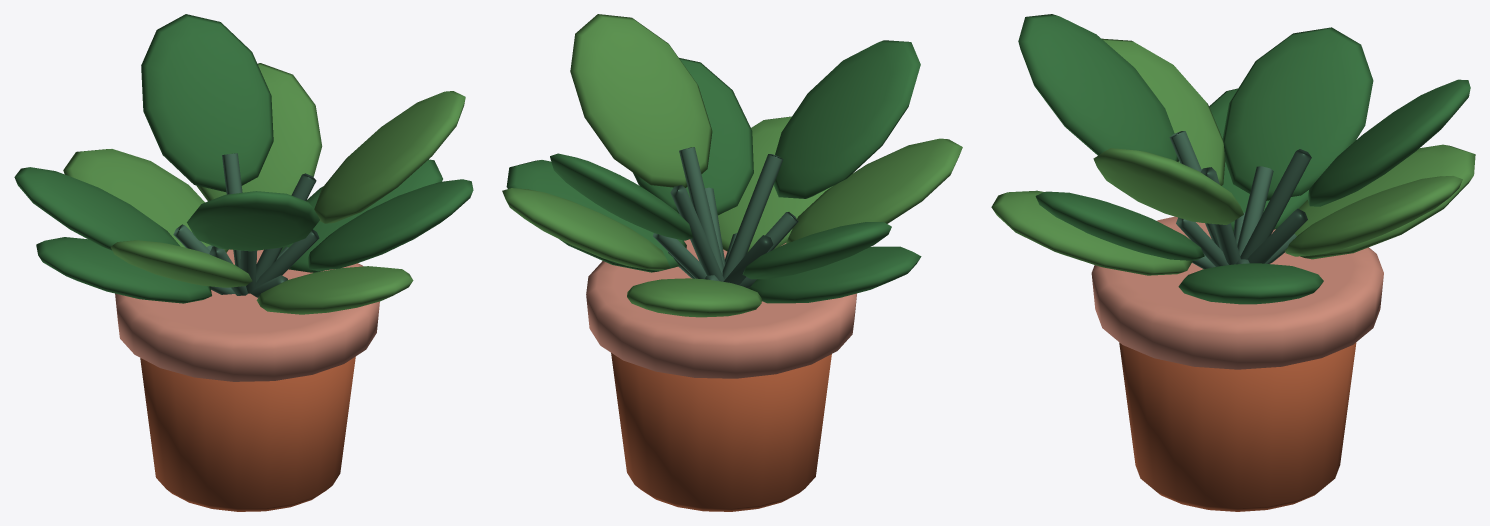
The model's file is potted-plant.glb.
3 views of the same model, side by side, from view 1: azimuth 30°, elevation 25°; view 2: azimuth 150°, elevation 25°; view 3: azimuth 270°, elevation 25° (orthographic). The views are drawn at different scales.
Parts seen in each view (by area): view 1: potted-plant; view 2: potted-plant; view 3: potted-plant.
Boxes of the visible parts, left/top/right/bottom form: potted-plant: left=14, top=14, right=473, bottom=511; potted-plant: left=502, top=14, right=962, bottom=511; potted-plant: left=991, top=14, right=1475, bottom=511.
Bounding box in the file's own units: 0.6824 × 0.6158 × 0.6623.
